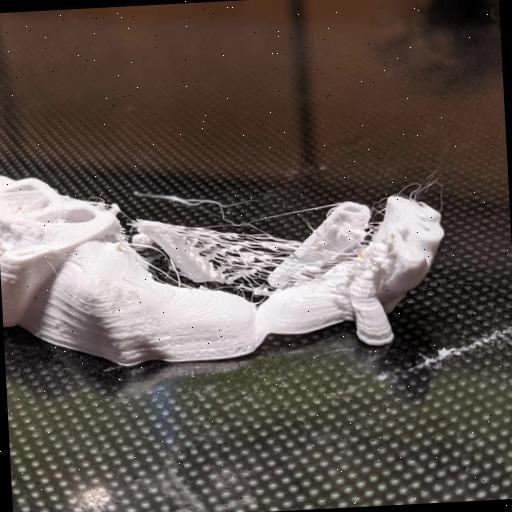stringing: (196, 224, 308, 302)
